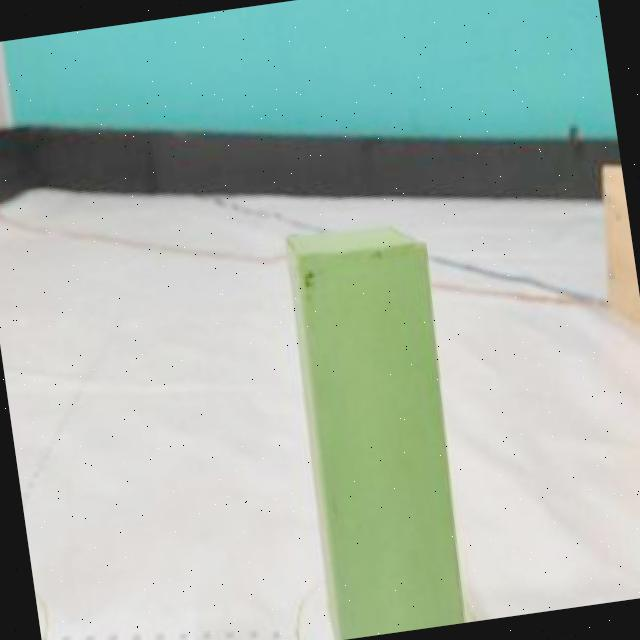greenbox: (277, 209, 481, 640)
